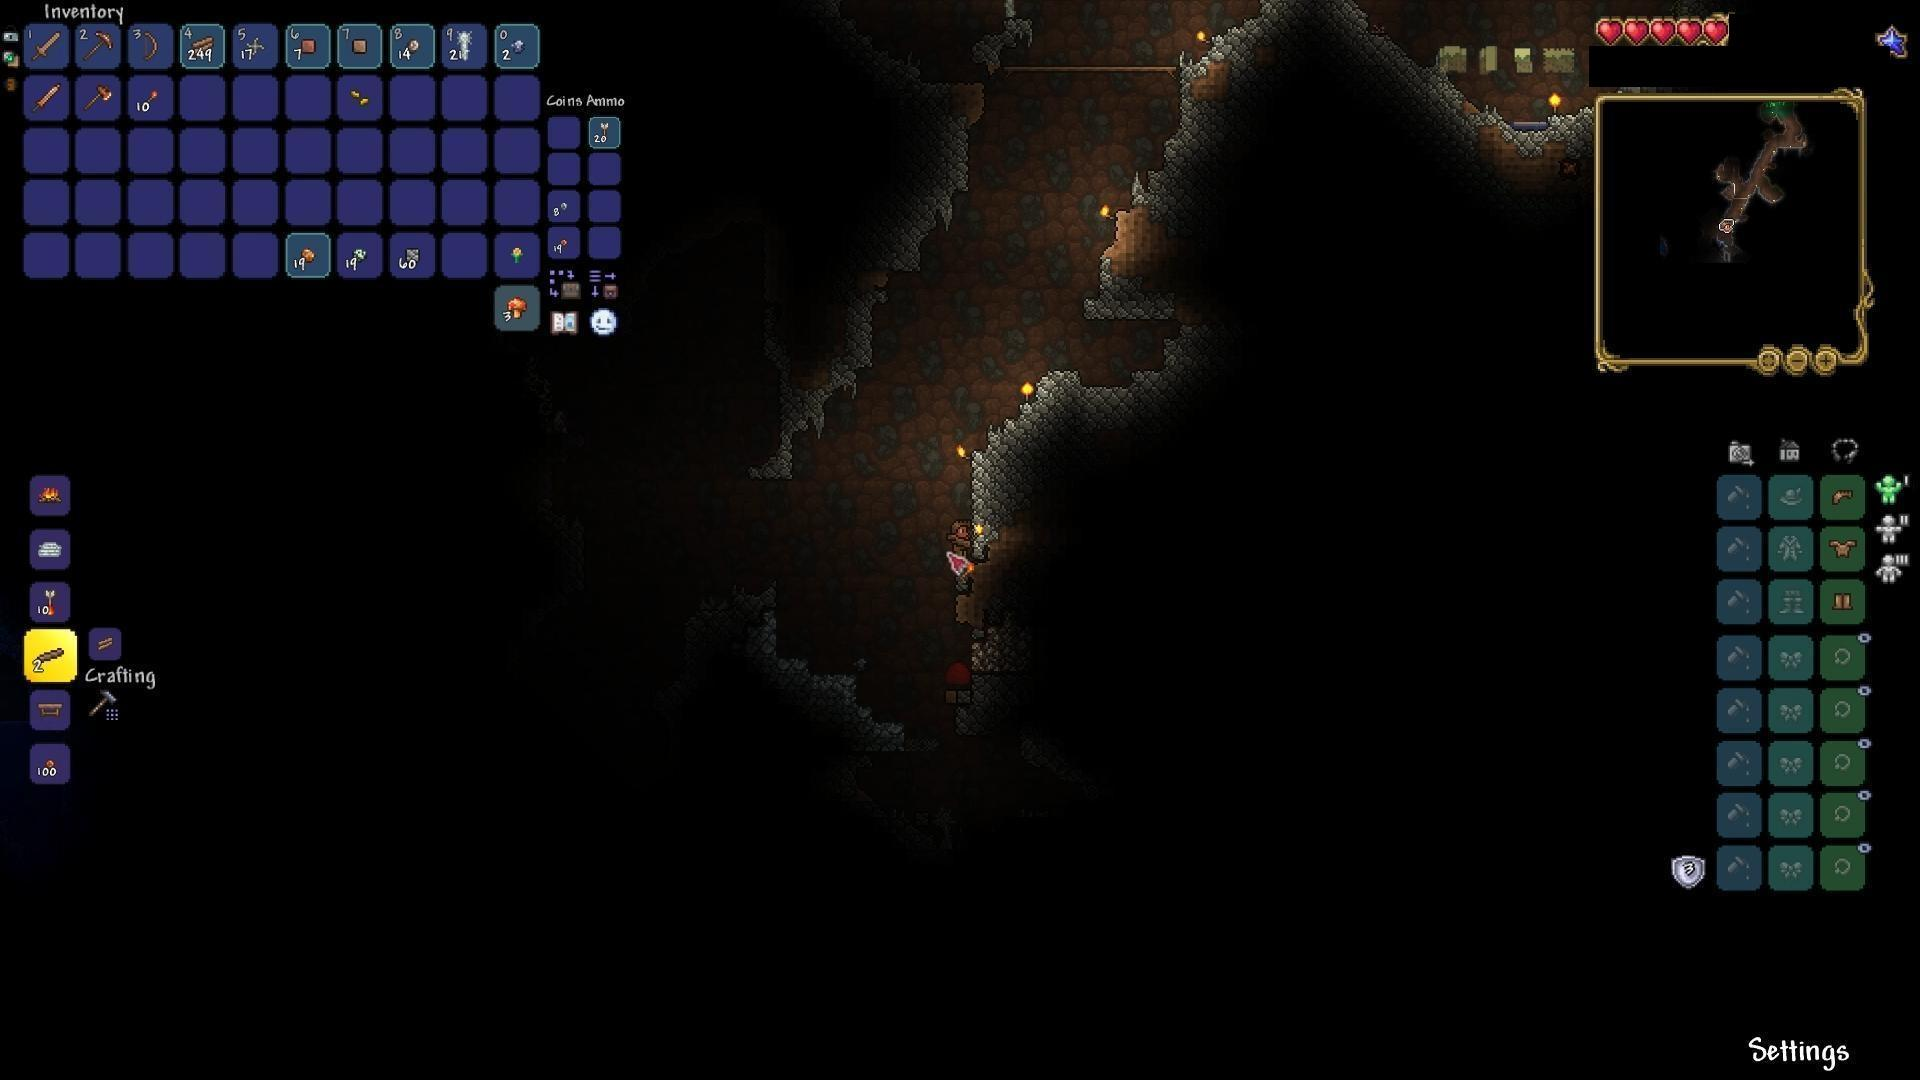heart: (1702, 17, 1733, 51), (1593, 16, 1626, 46), (1676, 15, 1704, 50), (1650, 16, 1676, 49), (1625, 15, 1651, 44)
stone: (968, 378, 1081, 535), (1129, 63, 1212, 210), (781, 352, 868, 481), (1425, 71, 1538, 152), (907, 112, 980, 215), (1080, 273, 1180, 327), (1077, 353, 1170, 411), (1212, 5, 1300, 65), (1622, 50, 1675, 90), (1549, 102, 1604, 135)
